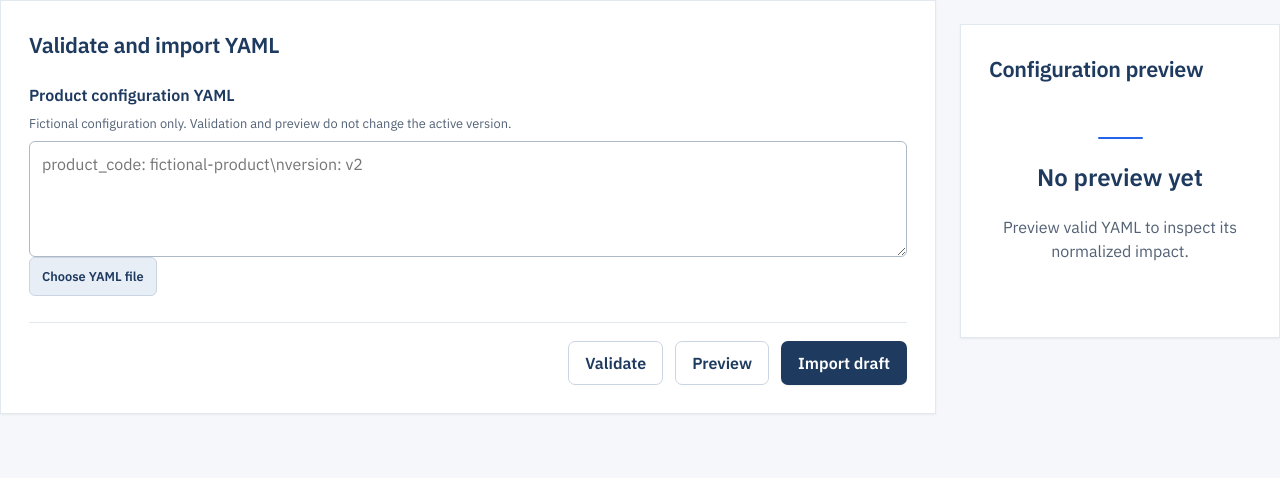
it: product import panel › previews the normalized counts of valid YAML
Type "product_code: motor-private-car" into the text box labelled "Product configuration YAML". click: point(468, 199)
box: [29,141,907,257]
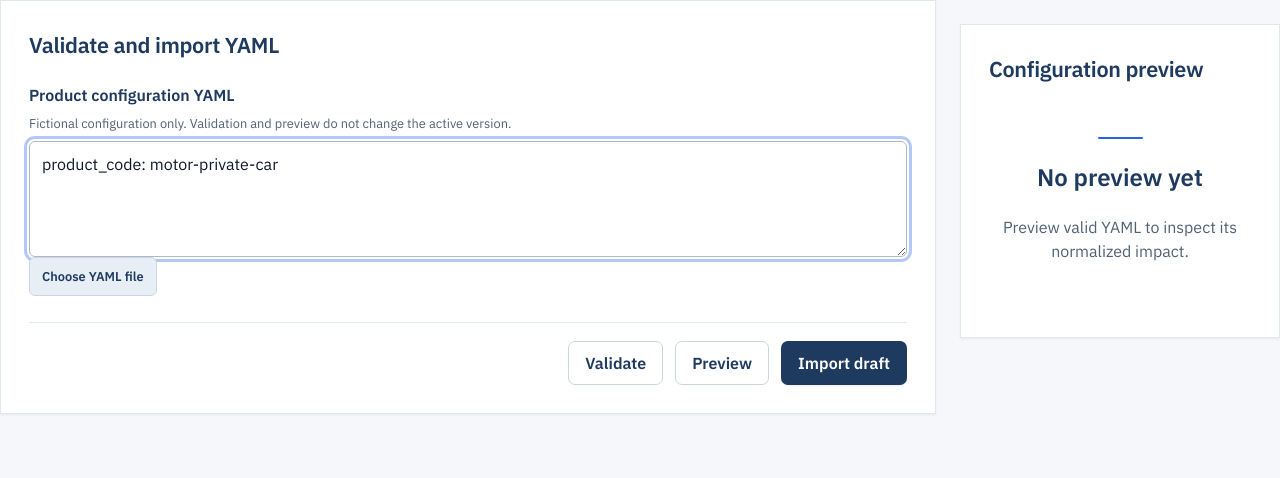
Click the button "Preview". click: point(722, 363)
box: [675,341,769,385]
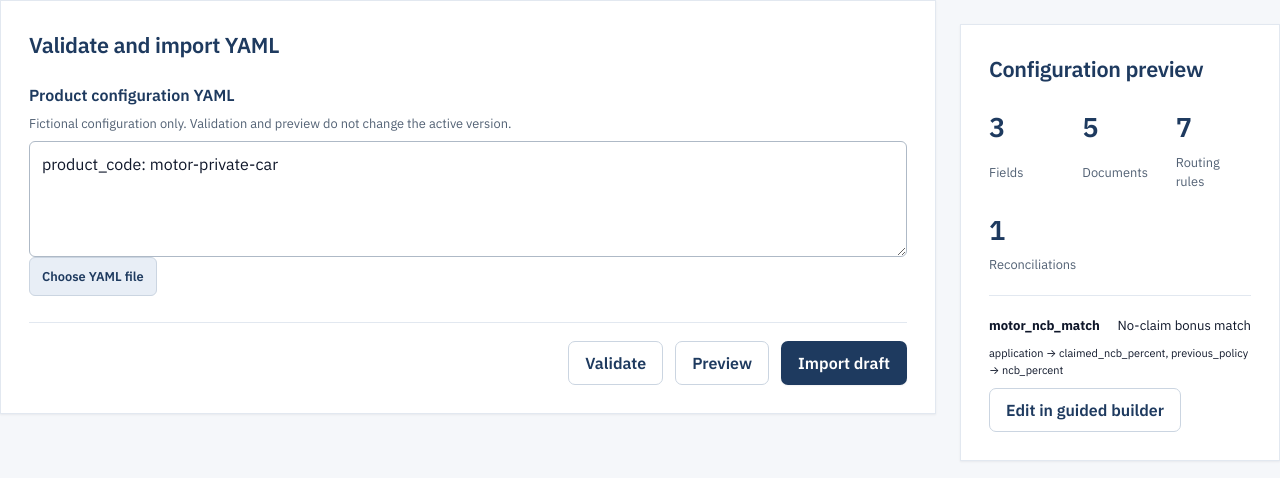
Expected: the text "Fields" is shown, [989,164,1024,181]
Expected: the text "3" is shown, [989,109,1005,144]
Expected: the text "Documents" is shown, [1082,164,1148,181]
